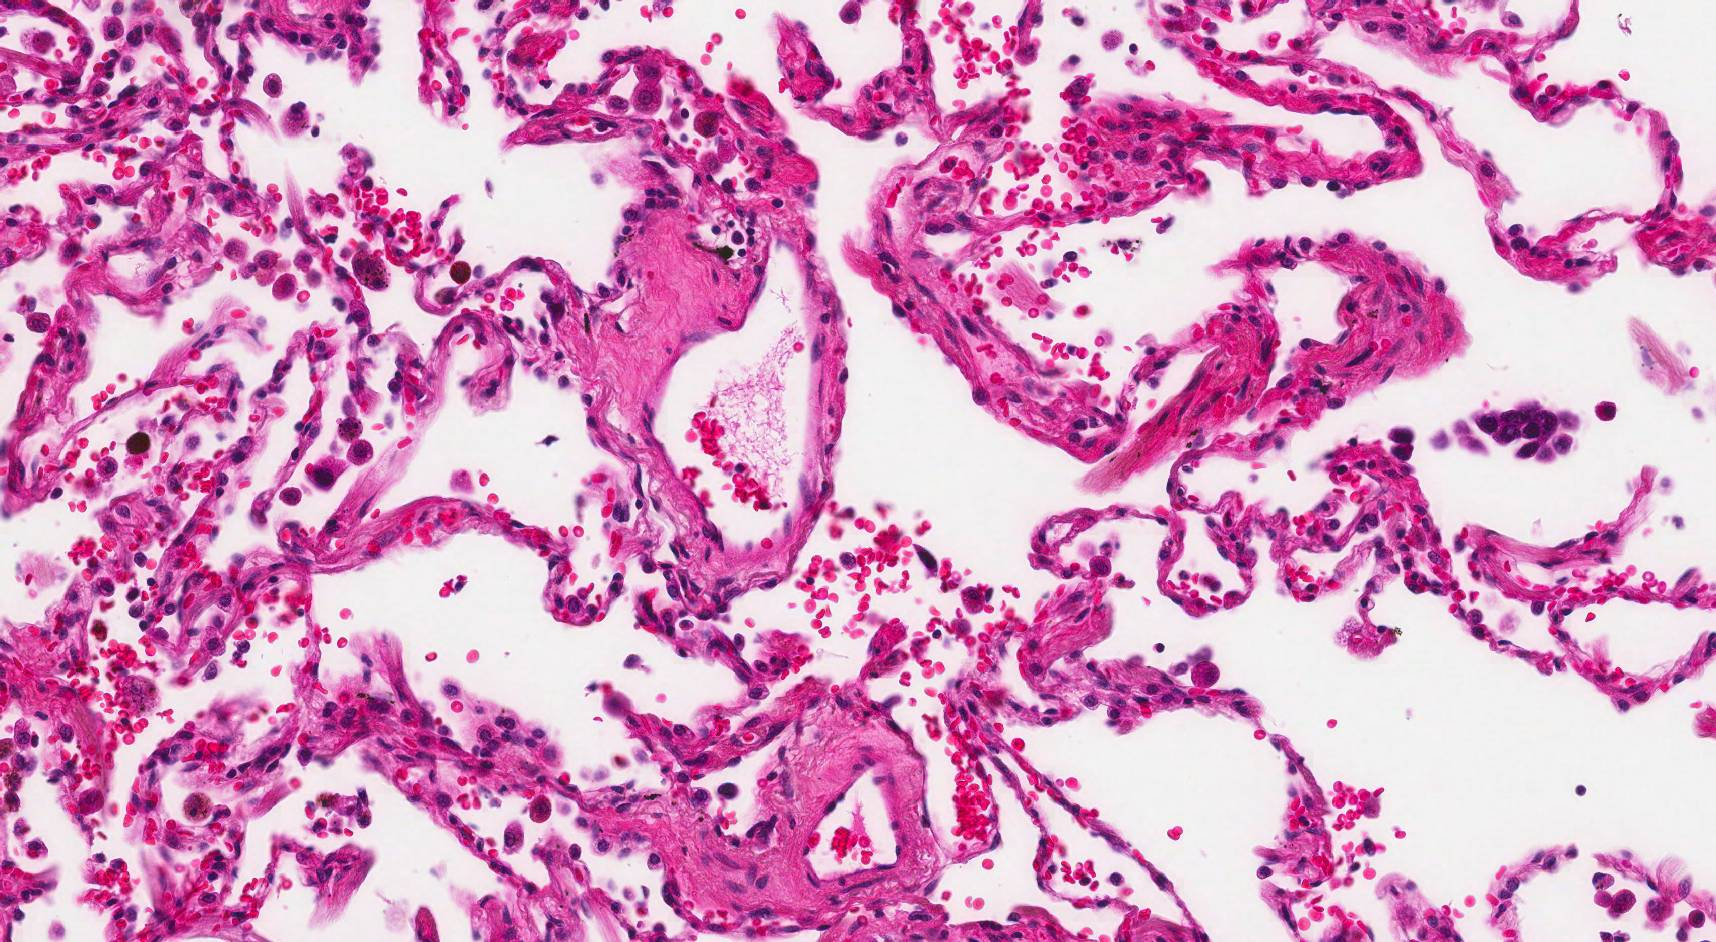stas: (1430, 398, 1582, 458)
